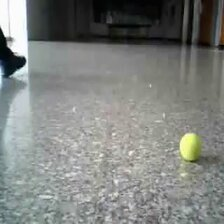tennis: (180, 133, 203, 161)
